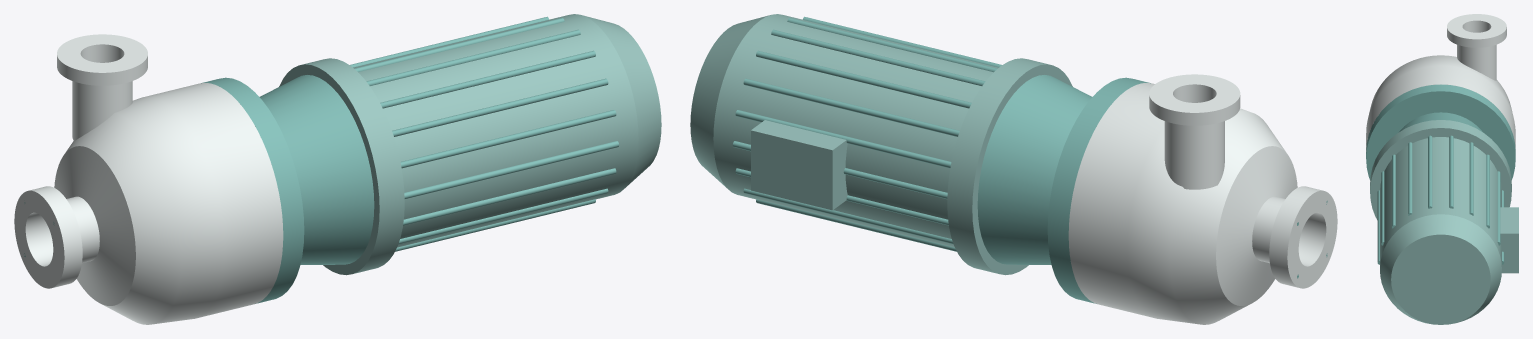
The picture shows the model from 3 angles, left to right: view 1: azimuth 30°, elevation 25°; view 2: azimuth 150°, elevation 25°; view 3: azimuth 270°, elevation 25°; orthographic projection. The views are drawn at different scales.
Parts seen in each view (by area): view 1: 泵体_圆弧壳与轴向进液口, 电机_带筋机壳, 连接座_短连接段, 电机_连接法兰, 连接座_泵壳连接环, 接口_朝上出液法兰, 电机_圆弧尾罩, 接口_偏置竖向出液管, 电机_散热筋09, 电机_散热筋08, 电机_散热筋10, 电机_散热筋07 (+6 smaller); view 2: 泵体_圆弧壳与轴向进液口, 电机_带筋机壳, 连接座_短连接段, 电机_连接法兰, 电机_接线盒, 连接座_泵壳连接环, 接口_朝上出液法兰, 接口_偏置竖向出液管, 电机_圆弧尾罩, 电机_散热筋03, 电机_散热筋04, 电机_散热筋05 (+7 smaller); view 3: 电机_圆弧尾罩, 电机_带筋机壳, 连接座_泵壳连接环, 泵体_圆弧壳与轴向进液口, 电机_连接法兰, 接口_朝上出液法兰, 电机_接线盒, 接口_偏置竖向出液管, 连接座_短连接段, 电机_散热筋05, 电机_散热筋04, 电机_散热筋06 (+6 smaller).
Boxes of the visible parts, x1,y1,x2,y2 form: 泵体_圆弧壳与轴向进液口: (14, 83, 283, 324); 电机_带筋机壳: (353, 14, 638, 247); 连接座_短连接段: (259, 75, 374, 264); 电机_连接法兰: (279, 58, 404, 275); 连接座_泵壳连接环: (201, 77, 304, 303); 接口_朝上出液法兰: (57, 34, 147, 85); 电机_圆弧尾罩: (581, 15, 661, 187); 接口_偏置竖向出液管: (72, 57, 132, 141); 电机_散热筋09: (400, 110, 616, 168); 电机_散热筋08: (392, 78, 608, 136); 电机_散热筋10: (404, 141, 619, 198); 电机_散热筋07: (380, 50, 595, 108); 泵体_圆弧壳与轴向进液口: (1068, 83, 1337, 324); 电机_带筋机壳: (713, 14, 998, 247); 连接座_短连接段: (977, 75, 1092, 264); 电机_连接法兰: (947, 58, 1072, 275); 电机_接线盒: (751, 120, 847, 210); 连接座_泵壳连接环: (1047, 77, 1150, 303); 接口_朝上出液法兰: (1149, 74, 1240, 125); 接口_偏置竖向出液管: (1164, 97, 1224, 189); 电机_圆弧尾罩: (690, 15, 770, 187); 电机_散热筋03: (743, 78, 959, 136); 电机_散热筋04: (756, 50, 971, 108); 电机_散热筋05: (771, 29, 985, 85); 电机_圆弧尾罩: (1380, 214, 1501, 324); 电机_带筋机壳: (1380, 137, 1501, 266); 连接座_泵壳连接环: (1366, 84, 1515, 180); 泵体_圆弧壳与轴向进液口: (1366, 55, 1515, 151); 电机_连接法兰: (1370, 120, 1511, 220); 接口_朝上出液法兰: (1447, 14, 1506, 47); 电机_接线盒: (1500, 207, 1518, 273); 接口_偏置竖向出液管: (1457, 29, 1496, 80); 连接座_短连接段: (1399, 112, 1482, 132); 电机_散热筋05: (1449, 135, 1453, 208); 电机_散热筋04: (1469, 142, 1473, 215); 电机_散热筋06: (1428, 135, 1432, 208).
Bounding box in the file's own units: 0.74 × 0.299 × 0.2548.
